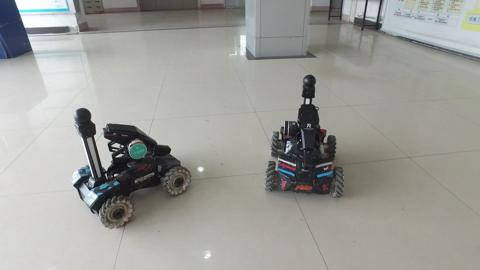chariot: (62, 110, 196, 230), (254, 72, 350, 200)
